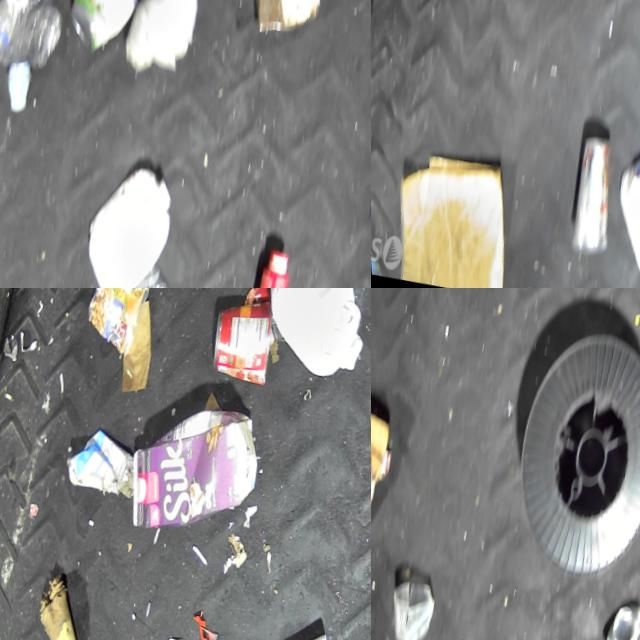can: (200, 293, 280, 391), (55, 0, 149, 65), (75, 288, 155, 360), (580, 599, 640, 640), (355, 121, 371, 256)
milk_jug: (61, 156, 181, 288), (244, 288, 371, 388)
non_white_jug: (111, 390, 268, 551)
plastic_bottle: (0, 0, 71, 79)
